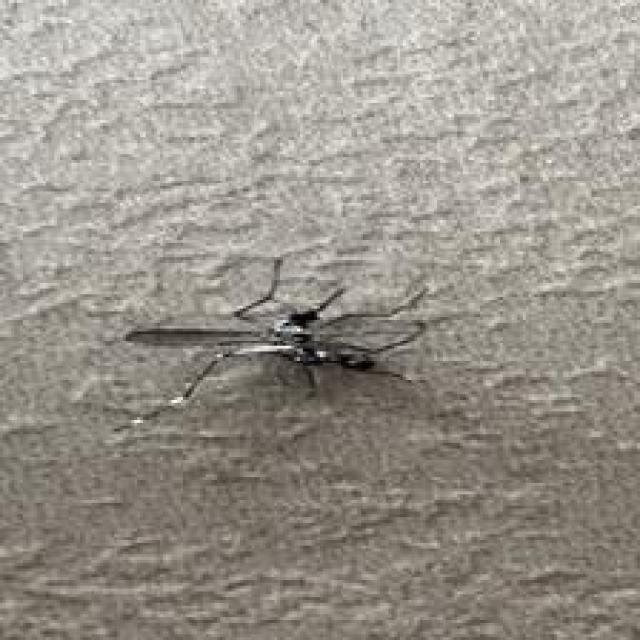Aedes albopictus: (120, 254, 431, 429)
